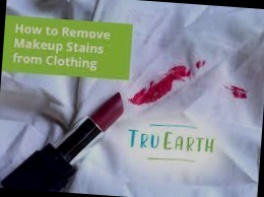lipstick: (154, 63, 193, 91), (138, 80, 173, 108), (129, 88, 162, 107), (221, 85, 249, 107), (192, 56, 208, 72)
